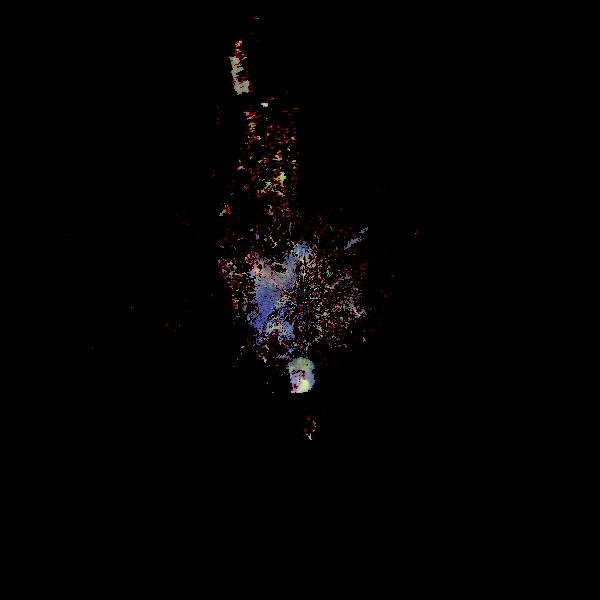roost: (279, 354, 324, 399), (294, 412, 327, 445), (413, 216, 440, 243)
